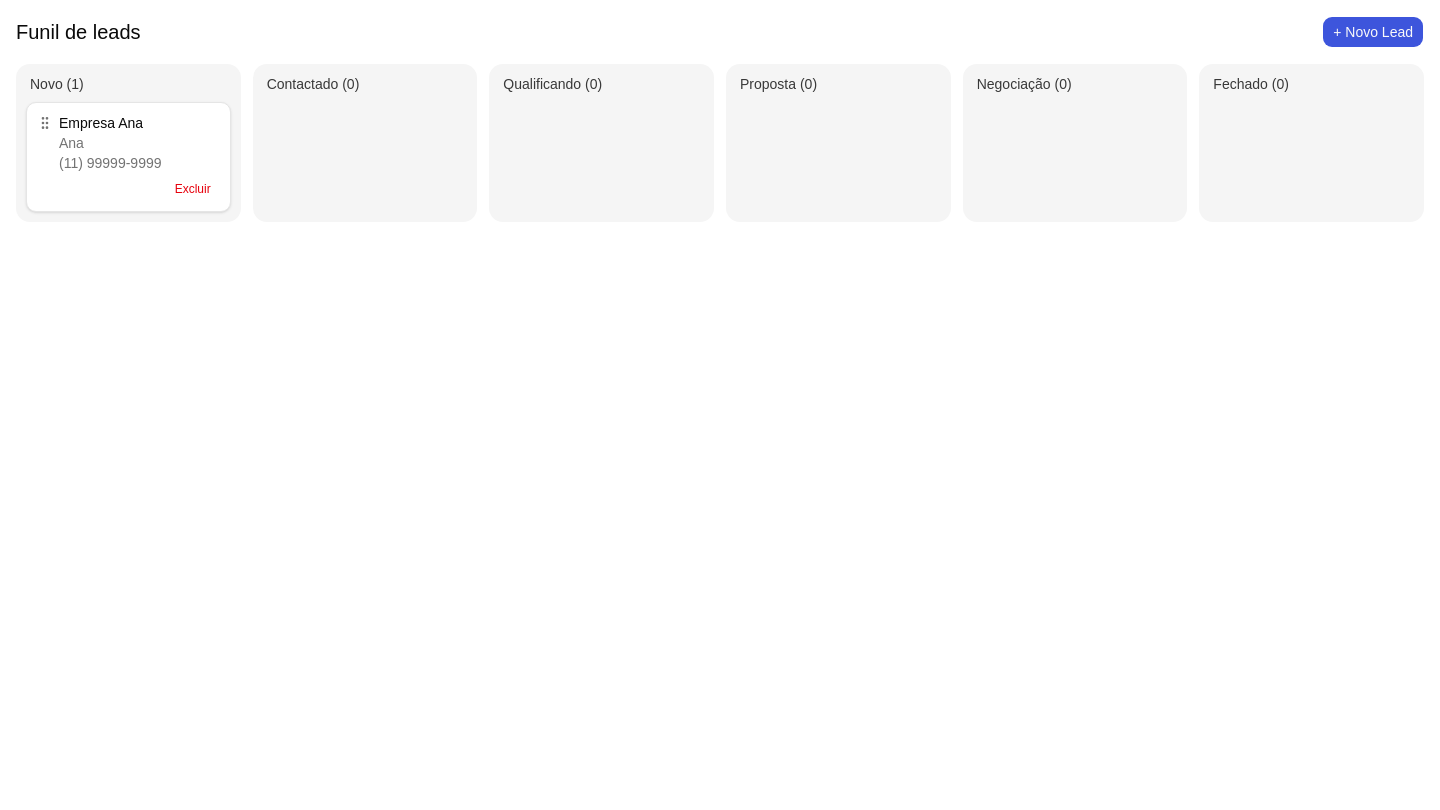
Test case: KanbanBoard › abre modal de criação vazio ao clicar em "Novo lead"
The width and height of the screenshot is (1440, 810).
Click the button "+ Novo Lead". click: (1373, 32)
box: x1=1322 y1=16 x2=1424 y2=48
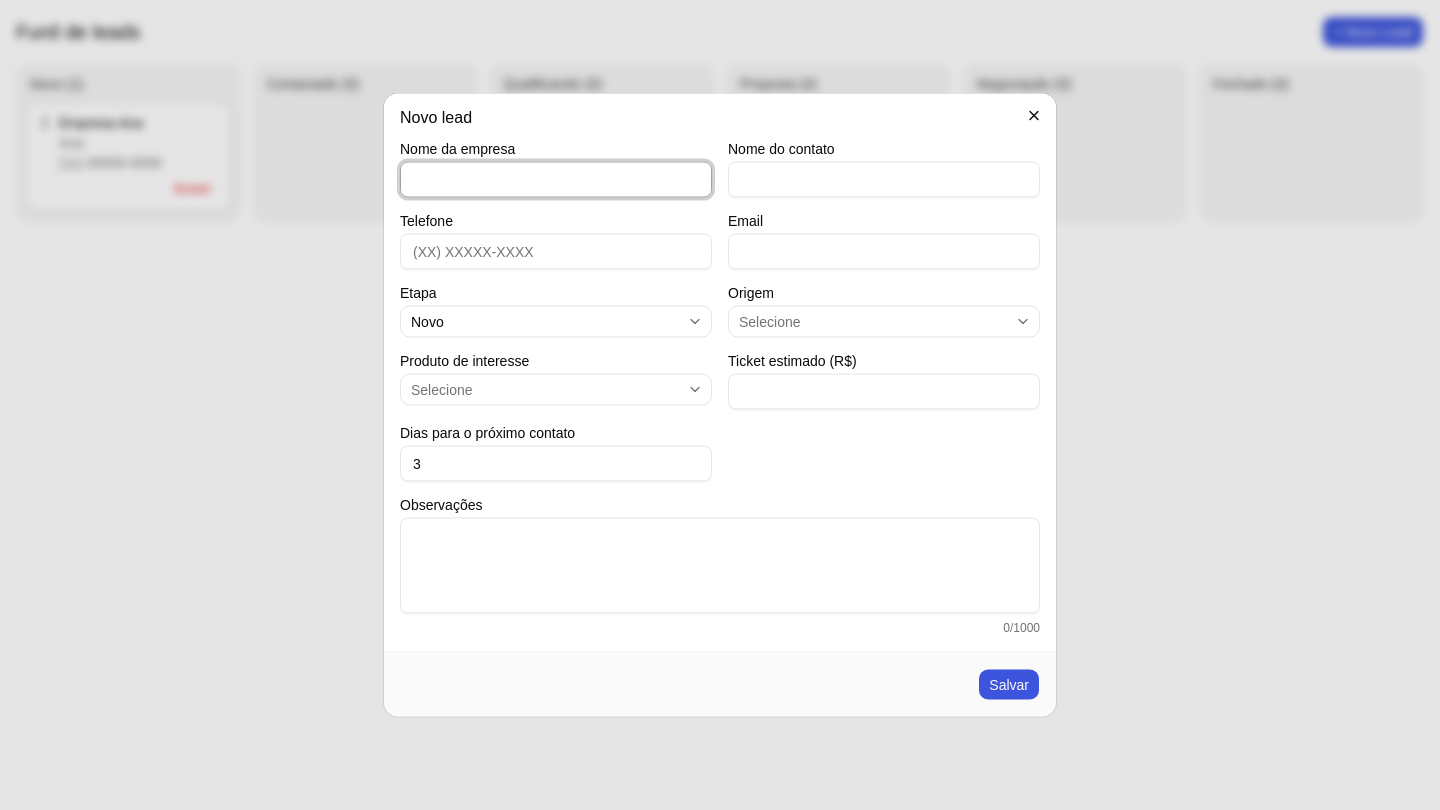
Check: the field labelled "Nome da empresa" is empty, box x1=400 y1=162 x2=712 y2=198
Check: the heading "Novo lead" is shown, box x1=400 y1=108 x2=472 y2=126
